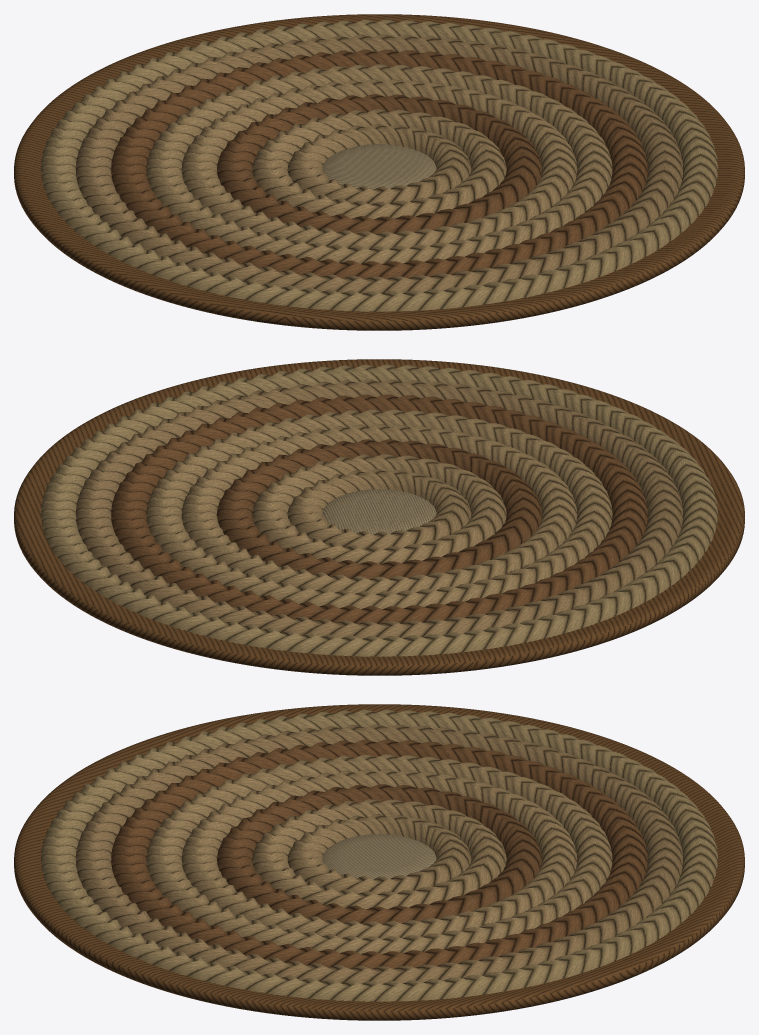
Rendered from rug.glb.
The picture shows the model from 3 angles, top to bottom: view 1: azimuth 30°, elevation 25°; view 2: azimuth 150°, elevation 25°; view 3: azimuth 270°, elevation 25°; orthographic projection.
Visible parts, largest first — view 1: rug; view 2: rug; view 3: rug.
Boxes of the visible parts, x1,y1,x2,y2 form: rug: (14,14,744,330); rug: (14,359,744,675); rug: (14,704,744,1020).
Bounding box in the file's own units: 2.2 × 0.066 × 2.2.
10 materials, 10 textured.
